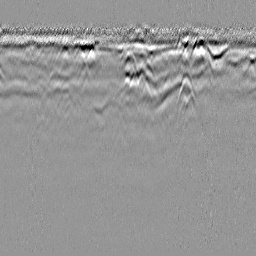cavity: (120, 51, 138, 73)
